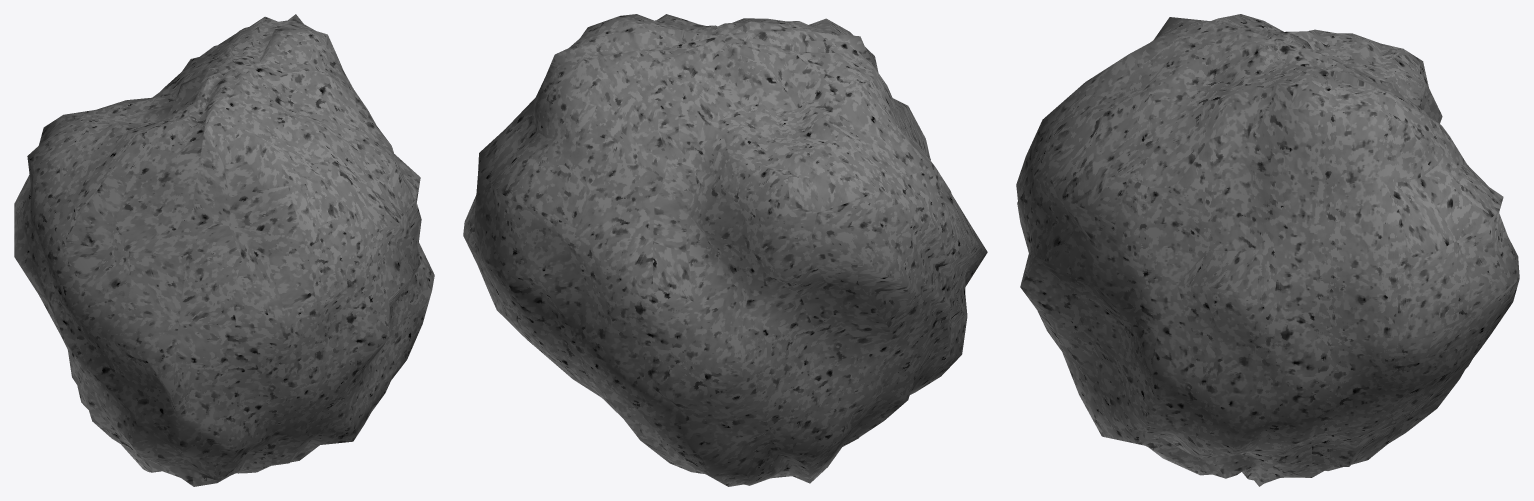
The model's file is Asteroid800A.FBX.
3 renders of one model, left to right at view 1: azimuth 30°, elevation 25°; view 2: azimuth 150°, elevation 25°; view 3: azimuth 270°, elevation 25°, orthographic. The views are drawn at different scales.
Visible parts, largest first — view 1: Sphere01; view 2: Sphere01; view 3: Sphere01.
Part boxes in pixels (<box>): Sphere01: <box>14,14,434,486</box>; Sphere01: <box>463,14,987,486</box>; Sphere01: <box>1016,14,1519,486</box>.
Size of the model in its own units: 111 by 111 by 114.
1 material, 1 textured.
